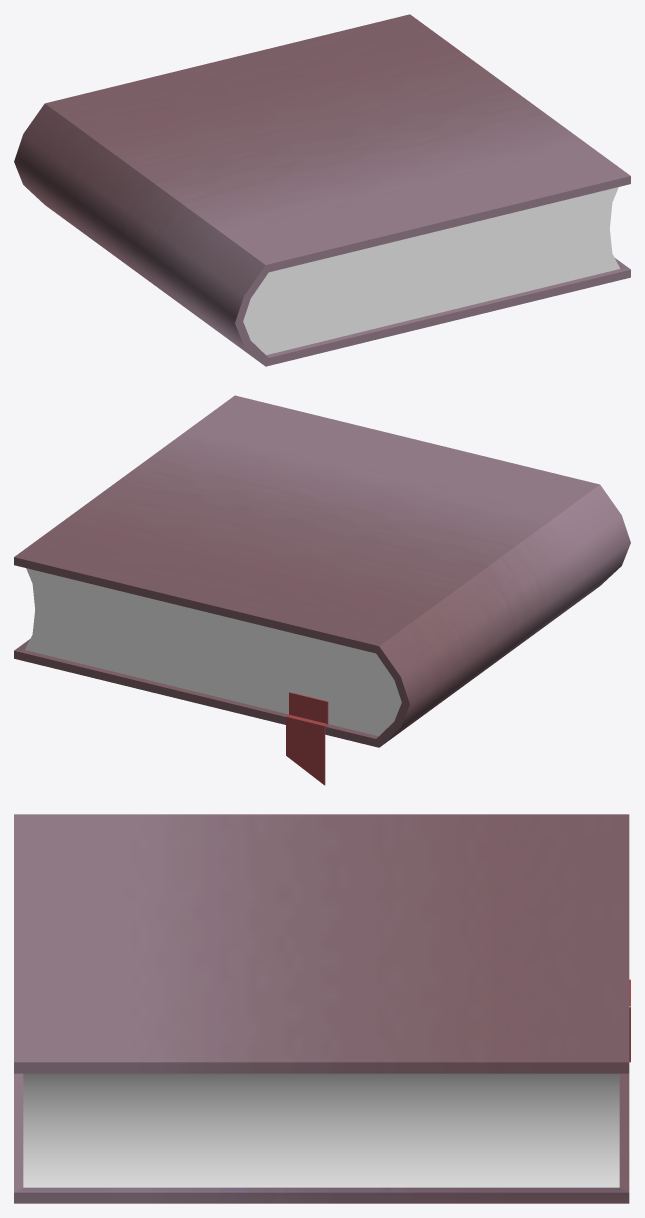
The model's file is book2.fbx.
3 renders of one model, top to bottom at view 1: azimuth 30°, elevation 25°; view 2: azimuth 150°, elevation 25°; view 3: azimuth 270°, elevation 25°, orthographic. The views are drawn at different scales.
Visible parts, largest first — view 1: book2; view 2: book2; view 3: book2.
Part boxes in pixels (<box>): book2: <box>14,14,630,366</box>; book2: <box>14,395,630,785</box>; book2: <box>14,814,630,1203</box>.
Bounding box in the file's own units: 25.86 × 9.48 × 25.06.
